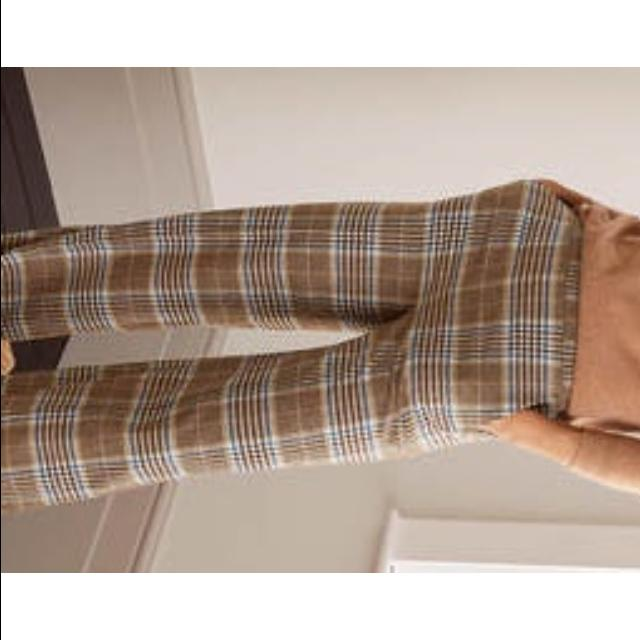wool: (0, 154, 640, 554)
